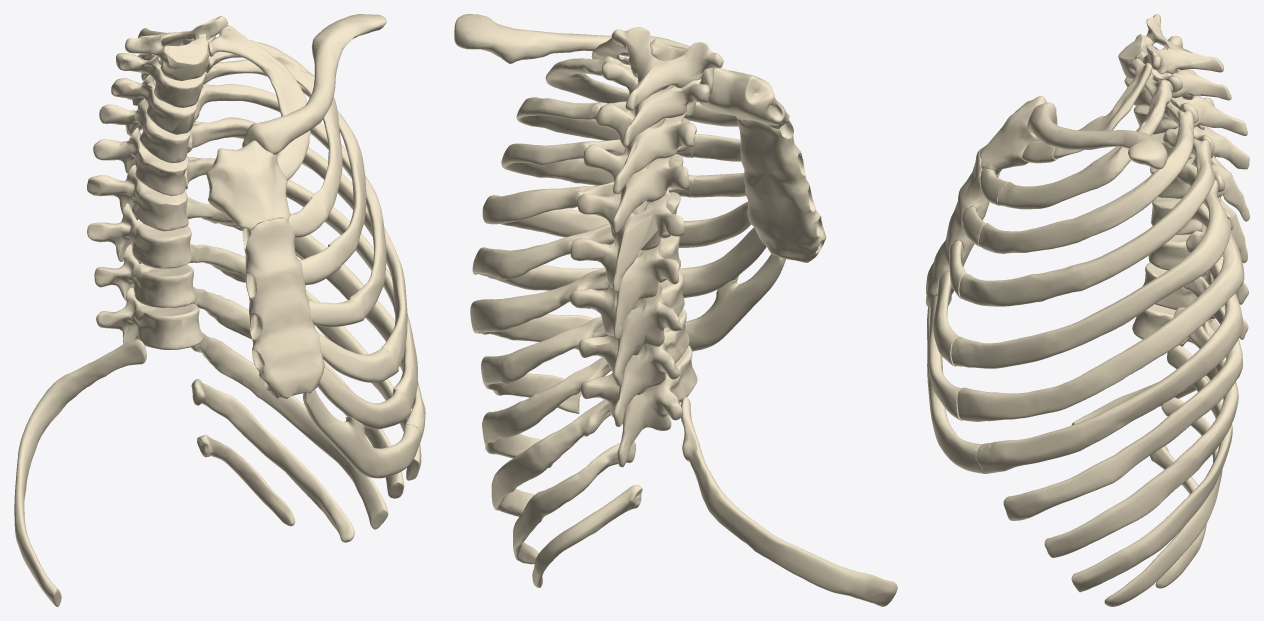
File: thorax-15.glb
3 views of the same model, side by side, from view 1: azimuth 30°, elevation 25°; view 2: azimuth 150°, elevation 25°; view 3: azimuth 270°, elevation 25° (orthographic). The views are drawn at different scales.
Visible parts, largest first — view 1: FJ3178, FJ3330, FJ3290, FJ3237, FJ3225, FJ3226, FJ3255, FJ3232, FJ3231, FJ3175, FJ3173, FJ3174 (+20 smaller); view 2: FJ3178, FJ3330, FJ3234, FJ3173, FJ3232, FJ3237, FJ3158, FJ3175, FJ3235, FJ3233, FJ3171, FJ3169 (+18 smaller); view 3: FJ3233, FJ3232, FJ3234, FJ3231, FJ3235, FJ3230, FJ3236, FJ3225, FJ3229, FJ3237, FJ3226, FJ3158 (+20 smaller).
Part boxes in pixels (x1=…): FJ3178: x1=242, y1=218, x2=324, y2=398; FJ3330: x1=14, y1=339, x2=146, y2=606; FJ3290: x1=206, y1=140, x2=290, y2=231; FJ3237: x1=242, y1=14, x2=386, y2=154; FJ3225: x1=191, y1=332, x2=388, y2=529; FJ3226: x1=191, y1=379, x2=354, y2=542; FJ3255: x1=303, y1=389, x2=421, y2=478; FJ3232: x1=187, y1=117, x2=407, y2=367; FJ3231: x1=193, y1=84, x2=386, y2=318; FJ3175: x1=96, y1=288, x2=203, y2=349; FJ3173: x1=87, y1=203, x2=192, y2=268; FJ3174: x1=94, y1=244, x2=196, y2=307; FJ3178: x1=737, y1=119, x2=826, y2=262; FJ3330: x1=681, y1=396, x2=897, y2=606; FJ3234: x1=470, y1=268, x2=608, y2=356; FJ3173: x1=569, y1=270, x2=684, y2=386; FJ3232: x1=482, y1=181, x2=614, y2=237; FJ3237: x1=454, y1=14, x2=714, y2=93; FJ3158: x1=611, y1=27, x2=723, y2=110; FJ3175: x1=580, y1=345, x2=697, y2=467; FJ3235: x1=481, y1=316, x2=608, y2=413; FJ3233: x1=472, y1=223, x2=614, y2=290; FJ3171: x1=570, y1=235, x2=680, y2=339; FJ3169: x1=577, y1=190, x2=684, y2=292; FJ3233: x1=957, y1=203, x2=1244, y2=421; FJ3232: x1=951, y1=162, x2=1230, y2=368; FJ3234: x1=977, y1=231, x2=1242, y2=473; FJ3231: x1=959, y1=129, x2=1214, y2=306; FJ3235: x1=1003, y1=276, x2=1242, y2=520; FJ3230: x1=979, y1=101, x2=1193, y2=253; FJ3236: x1=1044, y1=307, x2=1238, y2=557; FJ3225: x1=1071, y1=345, x2=1232, y2=592; FJ3229: x1=997, y1=77, x2=1172, y2=209; FJ3237: x1=1027, y1=102, x2=1167, y2=169; FJ3226: x1=1104, y1=397, x2=1222, y2=606; FJ3158: x1=1118, y1=14, x2=1223, y2=79.
Size of the model in its own units: 0.2676 by 0.3688 by 0.2139.
